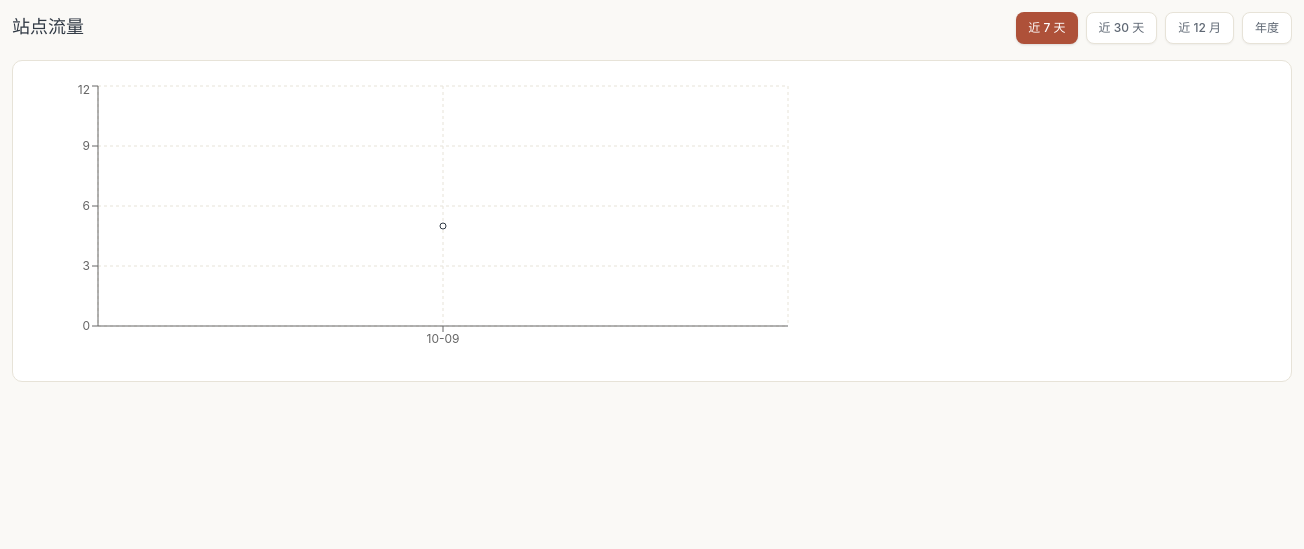
TrafficPage › 年度视图渲染汇总卡与峰值日
This screenshot has width=1304, height=549.
Expected: the icon "10-09 0 3 6 9 12" is shown, [33,81,793,361]
Click the button "年度" at (1267, 28), box [1242,12,1292,44]
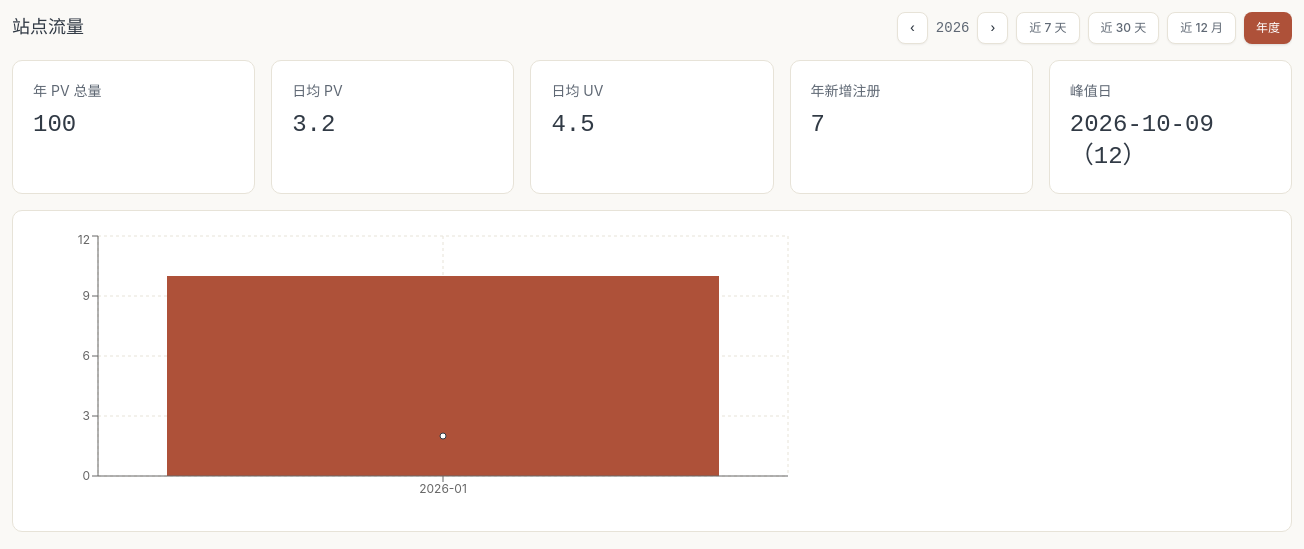
Result: the text "年 PV 总量" is shown at [33,82,102,99]
Result: the text "100" is shown at [33,111,76,138]
Result: the text "2026-10-09（12）" is shown at [1070,111,1214,170]
